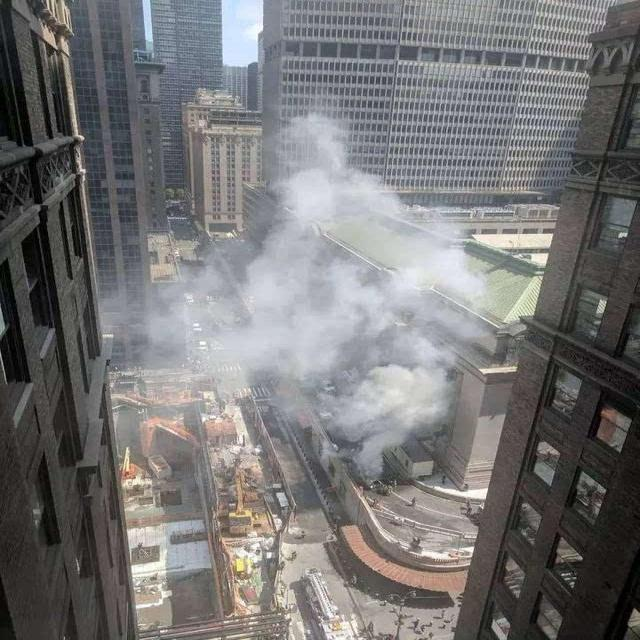Smoke: (98, 110, 488, 488)
